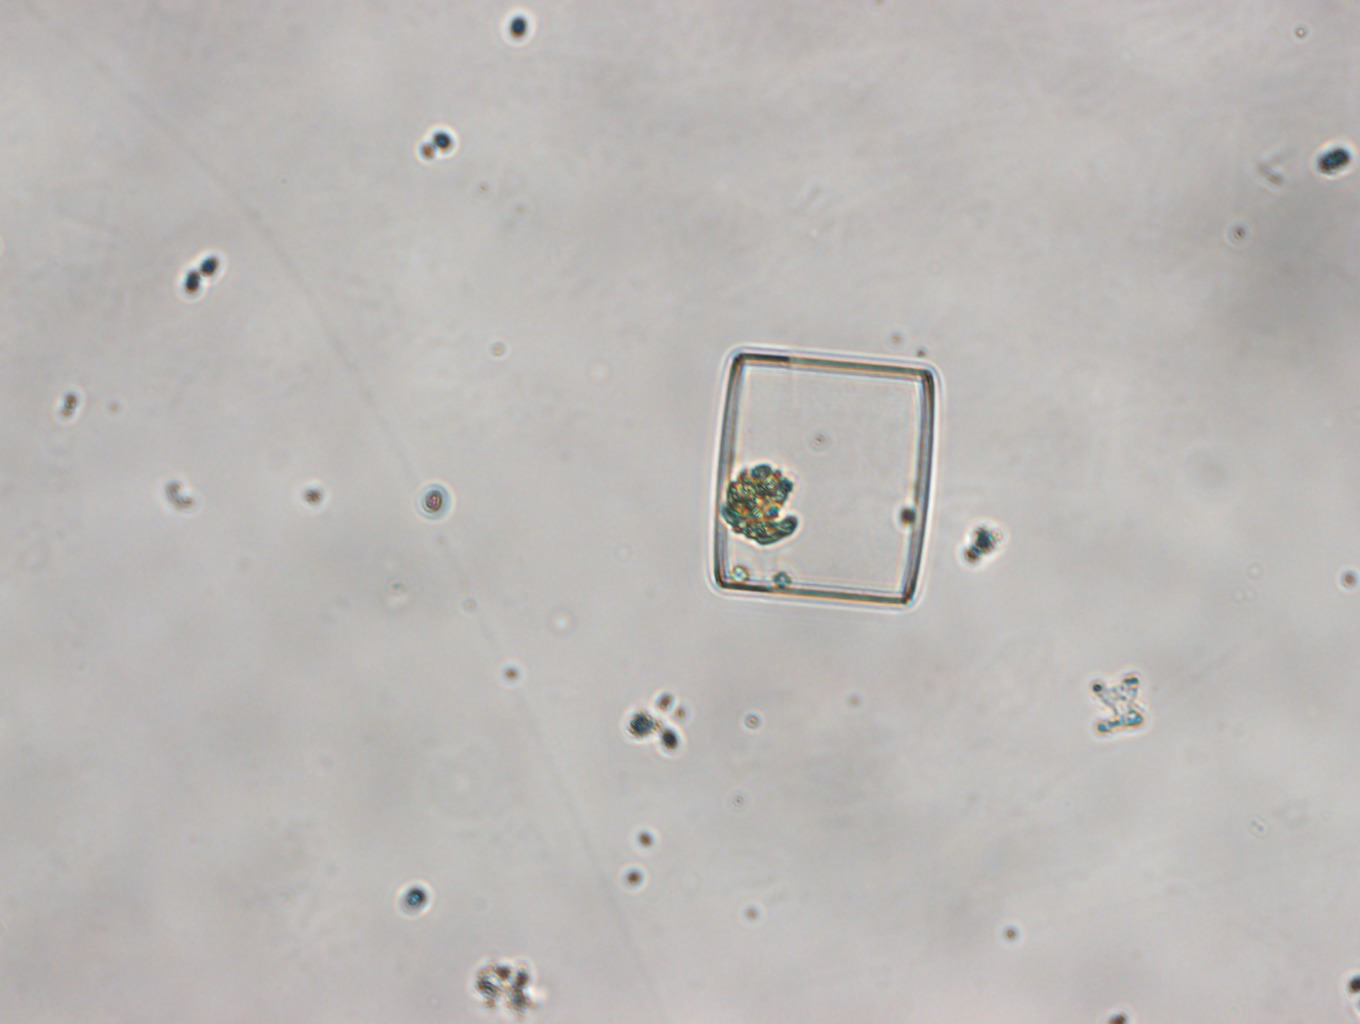guinardia flaccida: (711, 349, 936, 609)
